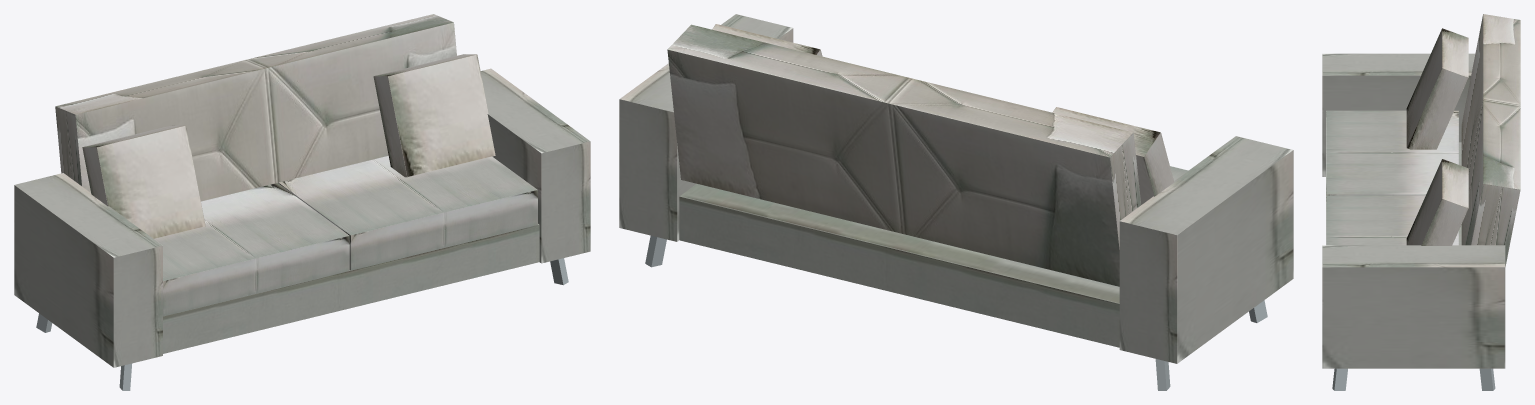
Rendered from loalti_ar.glb.
The picture shows the model from 3 angles, left to right: view 1: azimuth 30°, elevation 25°; view 2: azimuth 150°, elevation 25°; view 3: azimuth 270°, elevation 25°; orthographic projection. The views are drawn at different scales.
Visible parts, largest first — view 1: loalti, naslon, jastuk_desno, jastuk_levo; view 2: naslon, loalti, jastuk_levo, jastuk_desno; view 3: loalti, naslon, jastuk_levo, jastuk_desno.
Part boxes in pixels (bbox=[...]): loalti: bbox=[14, 68, 590, 390]; naslon: bbox=[55, 14, 456, 201]; jastuk_desno: bbox=[373, 54, 495, 177]; jastuk_levo: bbox=[82, 125, 205, 238]; naslon: bbox=[667, 24, 1141, 286]; loalti: bbox=[619, 14, 1293, 390]; jastuk_levo: bbox=[1052, 107, 1173, 204]; jastuk_desno: bbox=[712, 24, 822, 56]; loalti: bbox=[1322, 53, 1505, 390]; naslon: bbox=[1461, 14, 1520, 266]; jastuk_levo: bbox=[1406, 28, 1468, 149]; jastuk_desno: bbox=[1406, 159, 1468, 245].
Size of the model in its own units: 2.13 by 0.9011 by 0.8341.
6 materials, 5 textured.
